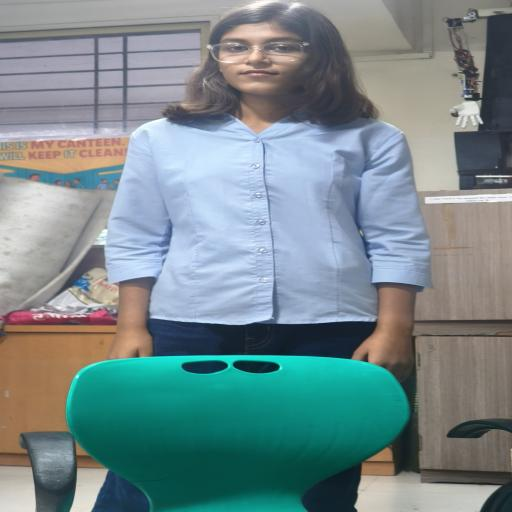survivor: (93, 0, 434, 512)
